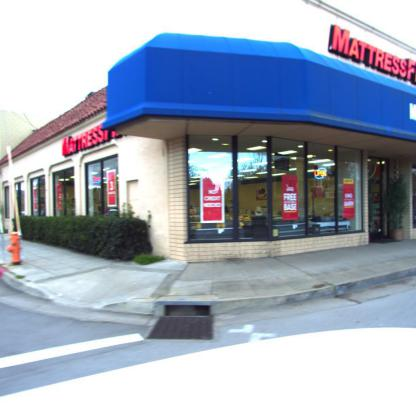fire hydrant: (4, 233, 24, 265)
